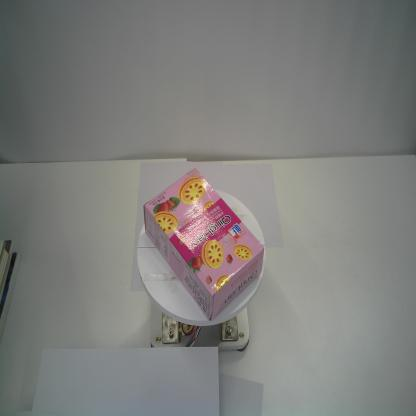Dessert: (143, 168, 264, 323)
